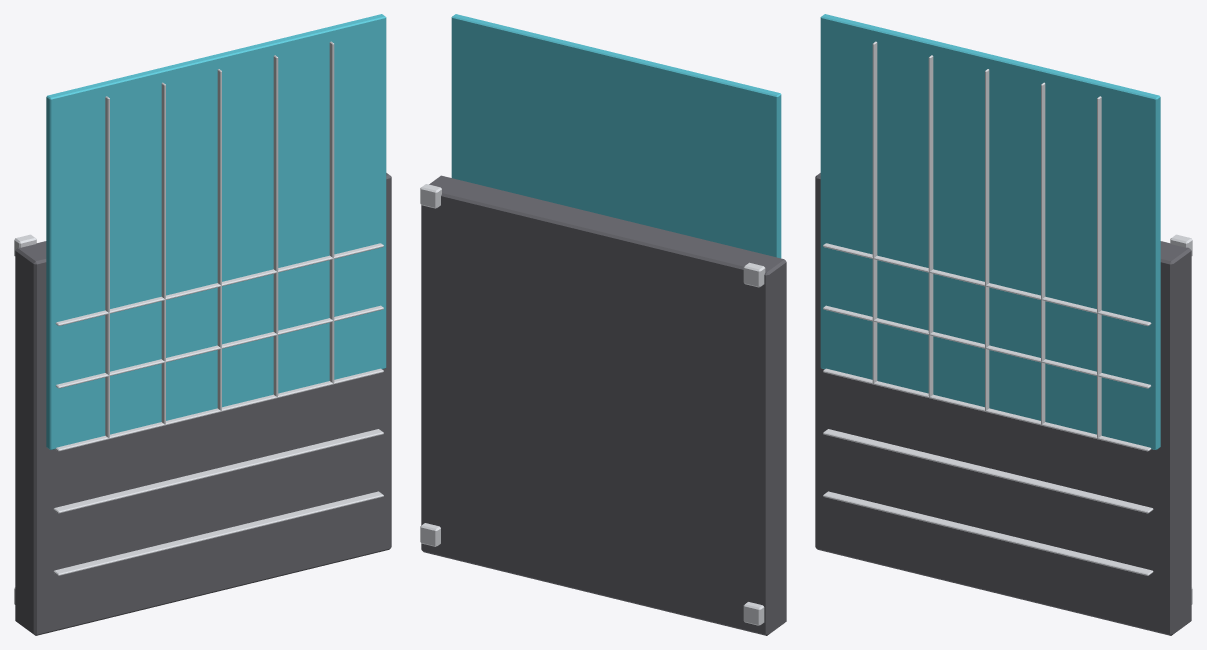
File: nightclub-and-dj-booth-backdrop-led-panel-module-cyan-4133ef86.glb
3 views of the same model, side by side, from view 1: azimuth 30°, elevation 25°; view 2: azimuth 150°, elevation 25°; view 3: azimuth 330°, elevation 25° (orthographic). The views are drawn at different scales.
Parts seen in each view (by area): view 1: backdrop-led-panel-module-cyan; view 2: backdrop-led-panel-module-cyan; view 3: backdrop-led-panel-module-cyan.
Part boxes in pixels (x1=…): backdrop-led-panel-module-cyan: x1=14, y1=14, x2=391, y2=635; backdrop-led-panel-module-cyan: x1=420, y1=14, x2=786, y2=635; backdrop-led-panel-module-cyan: x1=815, y1=14, x2=1192, y2=635.
Size of the model in its own units: 1 by 1.44 by 0.1574.
